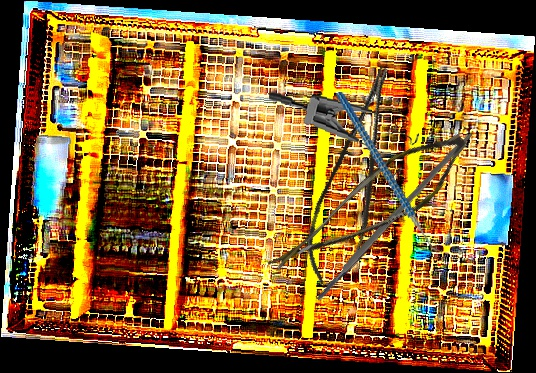Chopper: (336, 76, 449, 271)
Micro Scissor: (266, 102, 478, 314), (288, 62, 429, 294)
Scalpel Handle: (313, 129, 475, 303)
Speculum: (263, 90, 422, 178)
